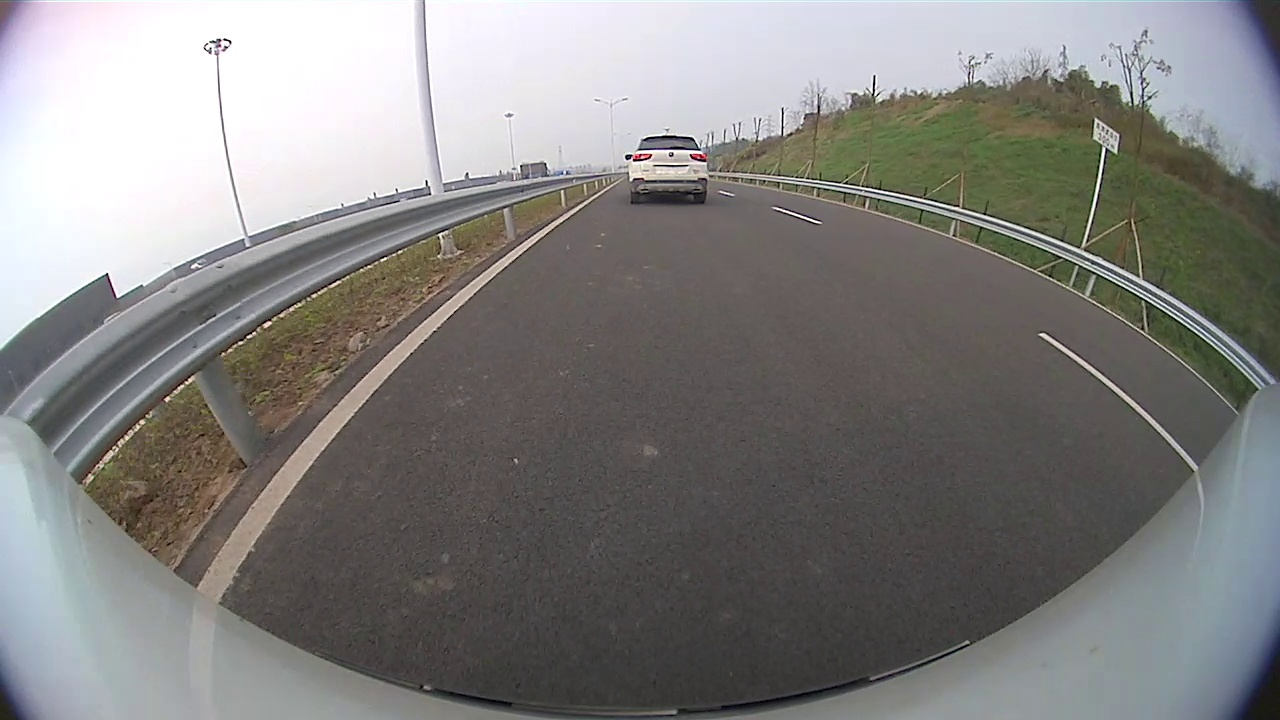car: (624, 135, 710, 204)
